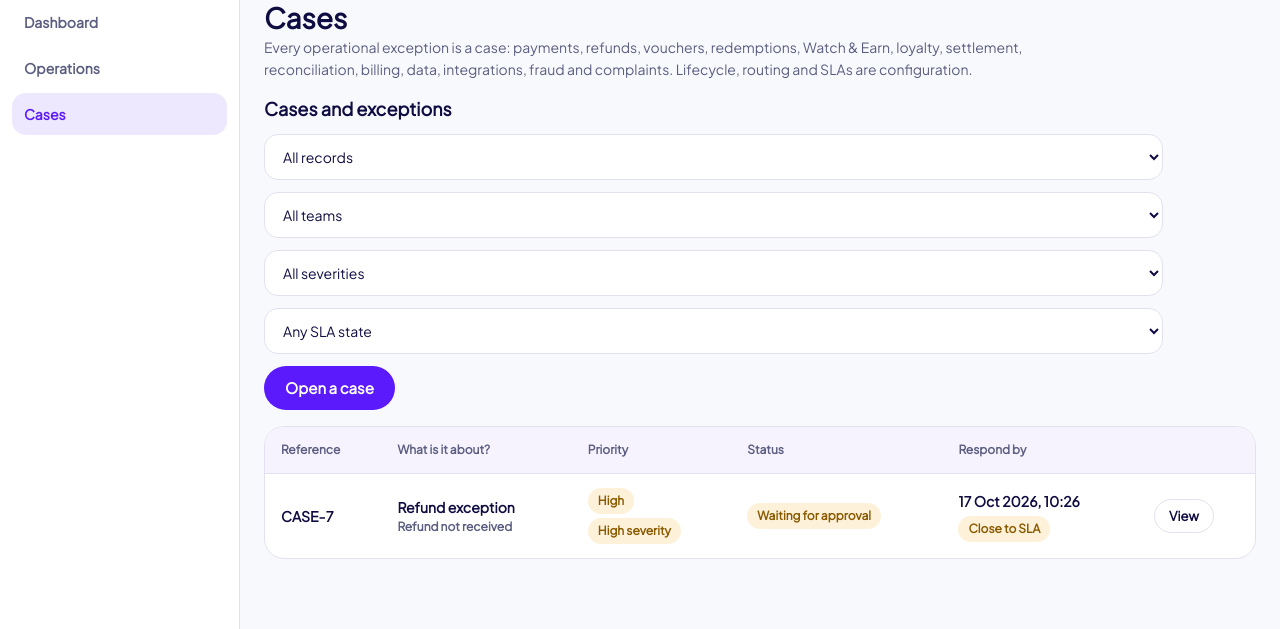
Stage 8 admin operations › cases: a resolution waiting for approval shows the awaiting-approval state; the requester cannot decide it
Expected: the row with test id "op-case-CASE-7" shows "Refund exception", [397,498,515,516]
Expected: the row with test id "op-case-CASE-7" shows "Waiting for approval", [757,508,871,523]
Click the button with test id "op-case-open-CASE-7".
click(1184, 516)  # box [1154,499,1214,533]
(page scrolled)
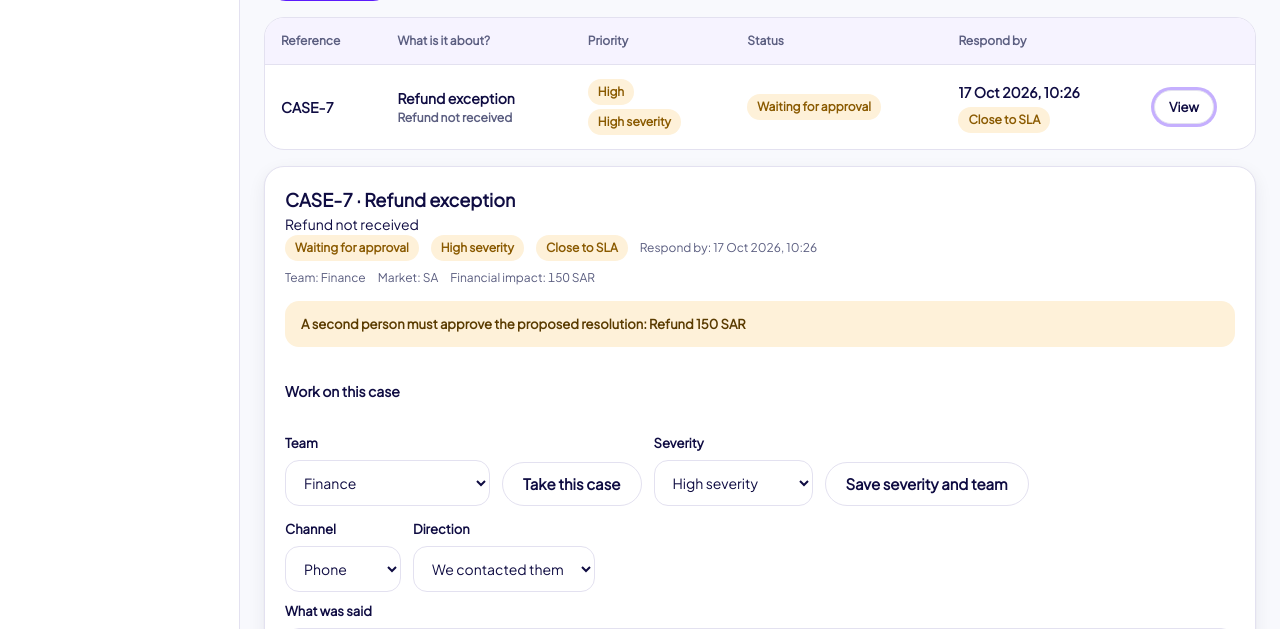
Expected: the element with test id "op-case-awaiting-approval" shows "Refund 150 SAR", [649,316,746,332]
Expected: the element with test id "op-case-facts" shows "Finance", [321,270,366,285]
